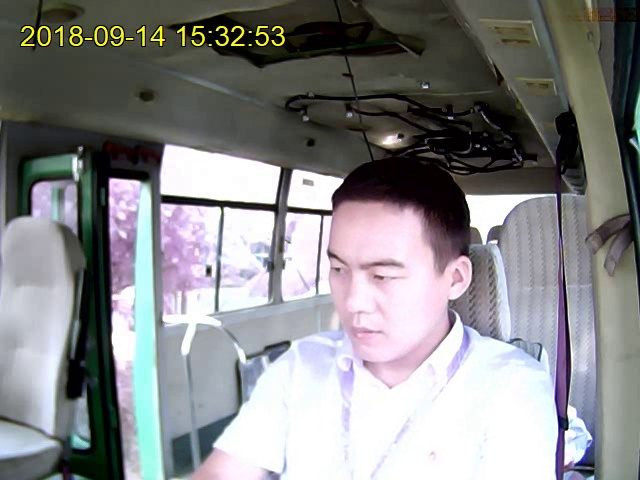closed_mouth: (347, 322, 386, 345)
open_eye: (366, 272, 401, 283), (328, 261, 348, 277)
